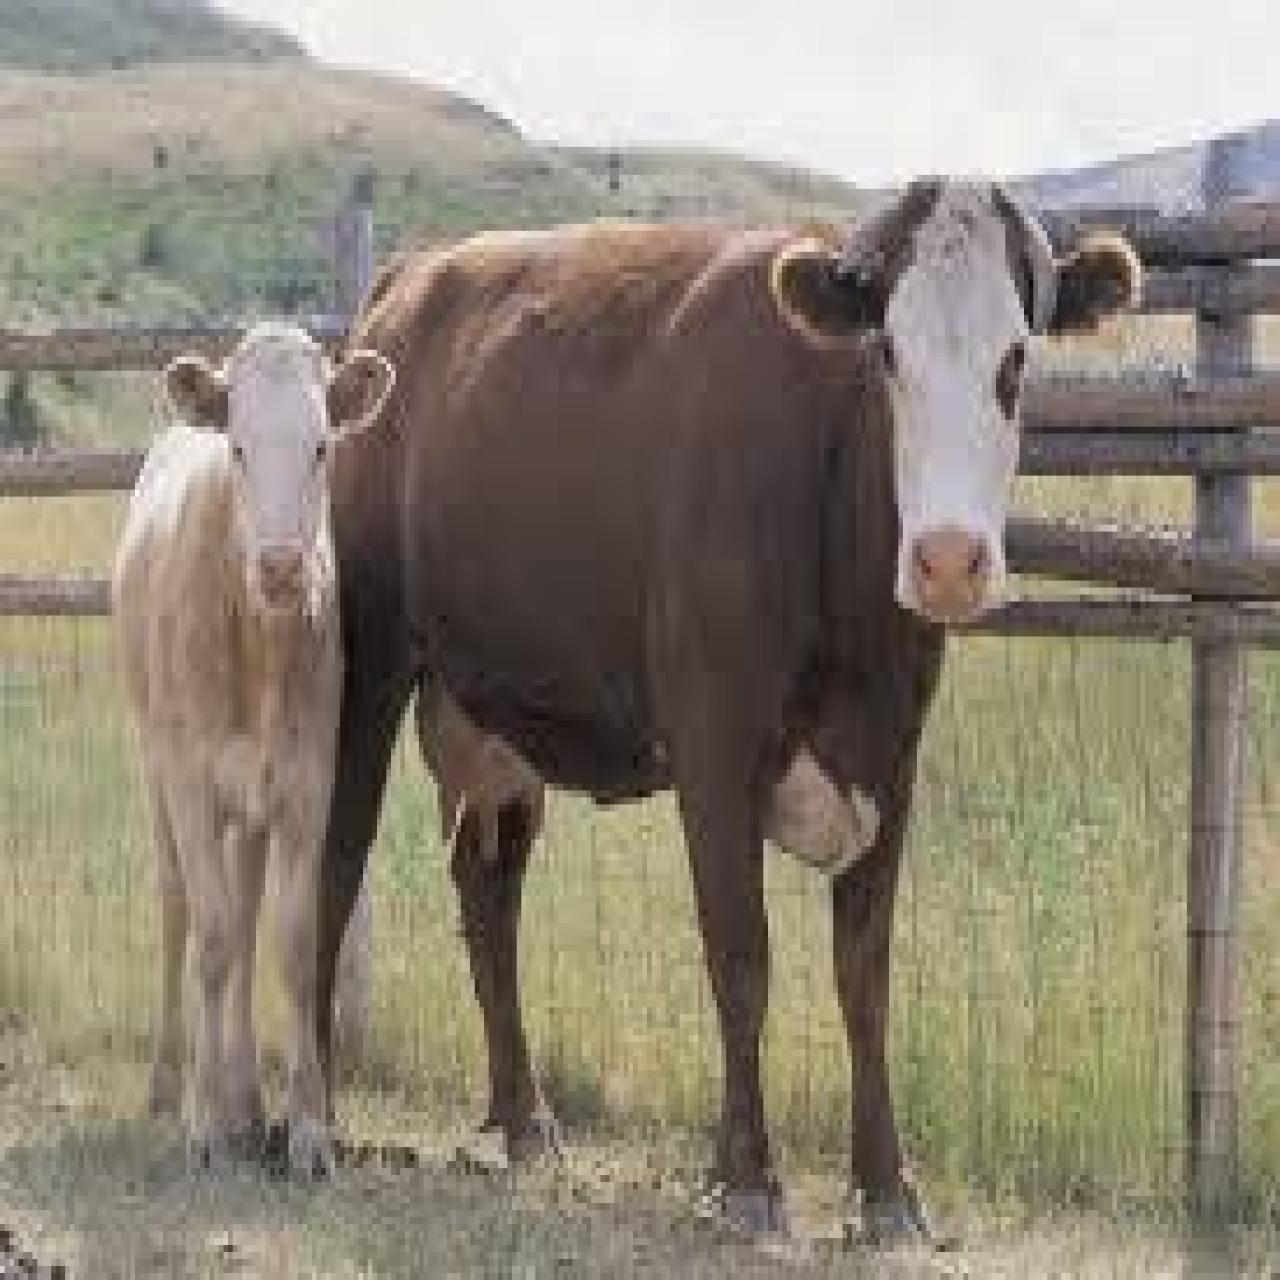cow: (340, 168, 1141, 1273), (109, 321, 397, 1183)
